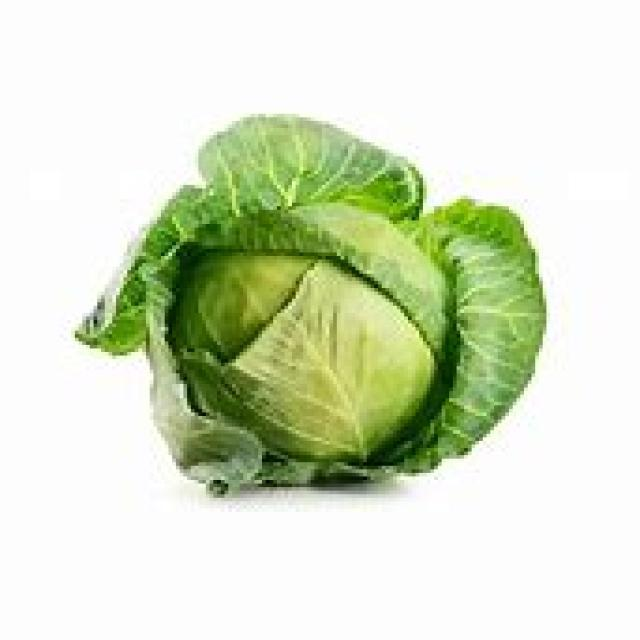cabbage: (85, 100, 539, 500)
